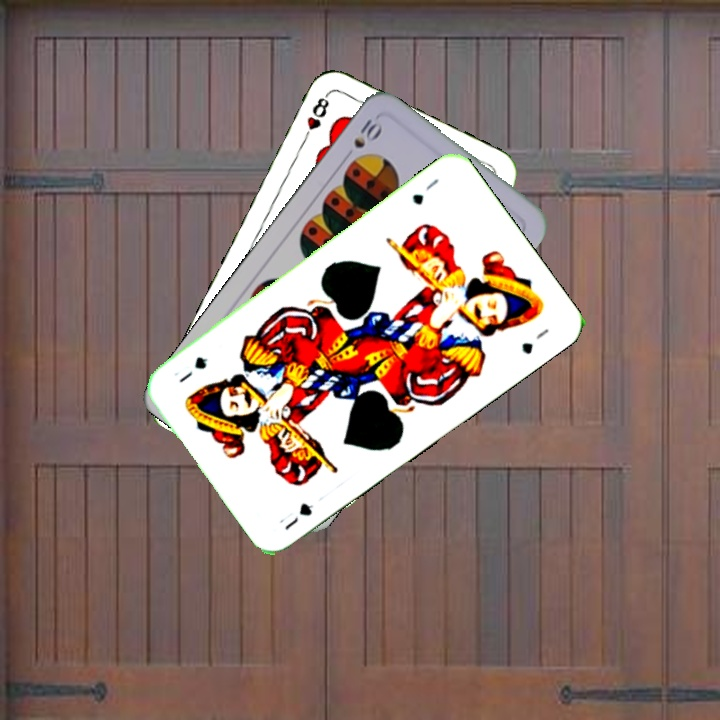GU: (280, 499, 316, 533), (408, 174, 441, 208)
H8: (299, 89, 332, 145)
S10: (339, 112, 385, 163)
